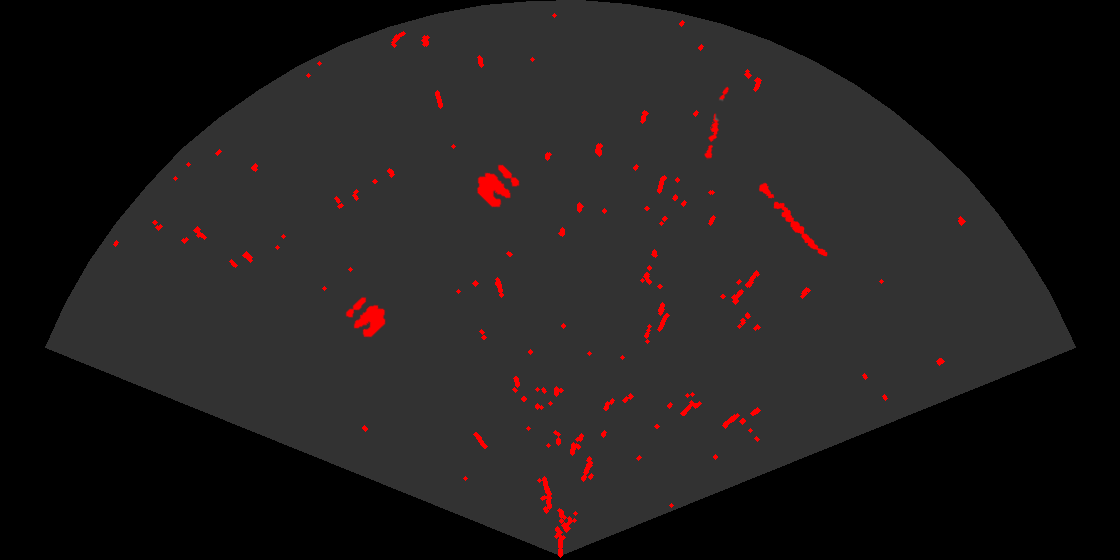ball: (475, 163, 521, 209), (344, 295, 387, 339)
chain: (757, 181, 829, 258), (703, 85, 731, 160)
